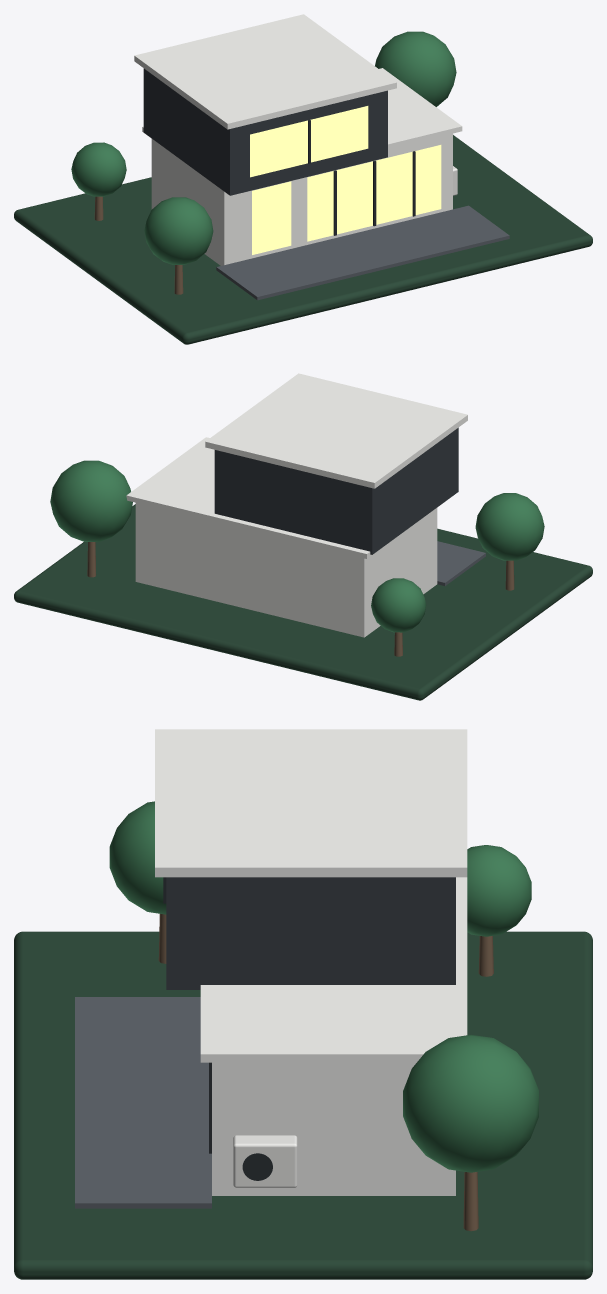
The model's file is 04_maison_nuit.glb.
3 renders of one model, top to bottom at view 1: azimuth 30°, elevation 25°; view 2: azimuth 150°, elevation 25°; view 3: azimuth 270°, elevation 25°, orthographic. The views are drawn at different scales.
Visible parts, largest first — view 1: Maison_nuit; view 2: Maison_nuit; view 3: Maison_nuit.
Part boxes in pixels (<box>): Maison_nuit: <box>14,14,592,344</box>; Maison_nuit: <box>14,373,592,700</box>; Maison_nuit: <box>14,729,592,1279</box>.
Size of the model in its own units: 5.2 by 2.09 by 3.8.
